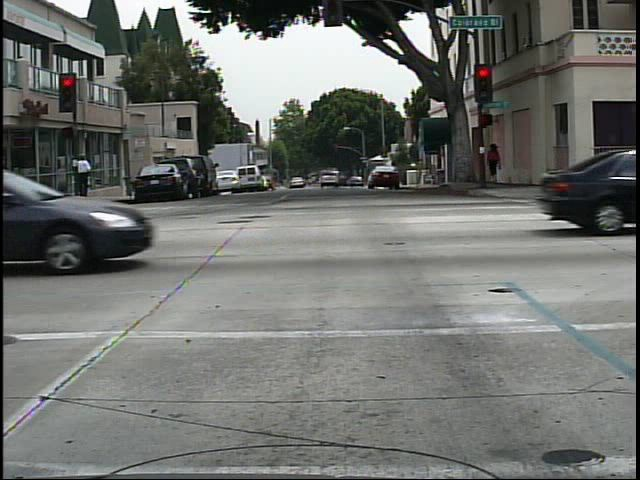person: (480, 138, 510, 191), (80, 151, 102, 201)
